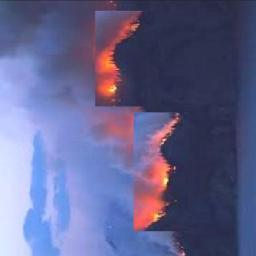Heavy smoke: (0, 0, 183, 256)
Medium fire: (95, 6, 181, 230)
